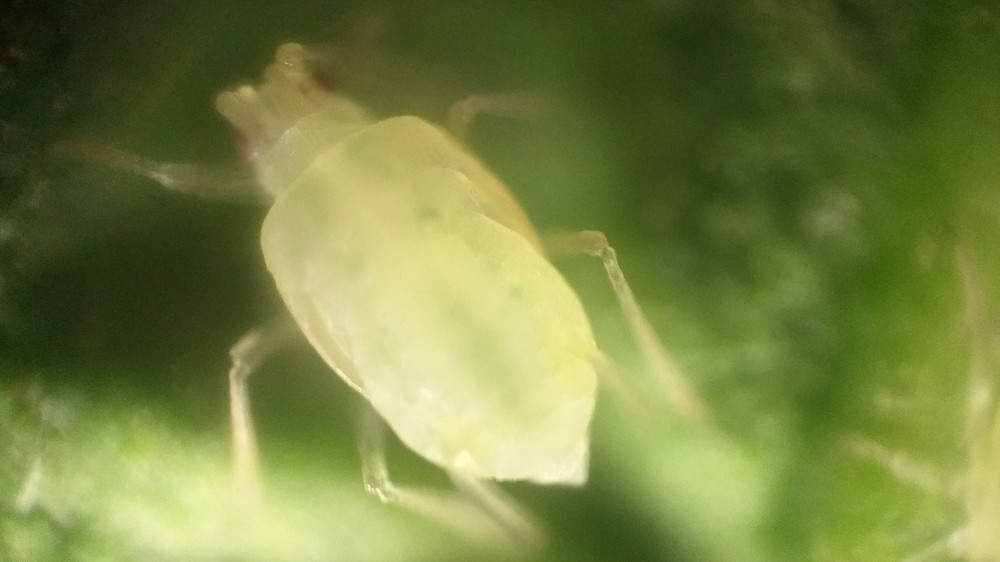Pulgon: (93, 11, 772, 558)
